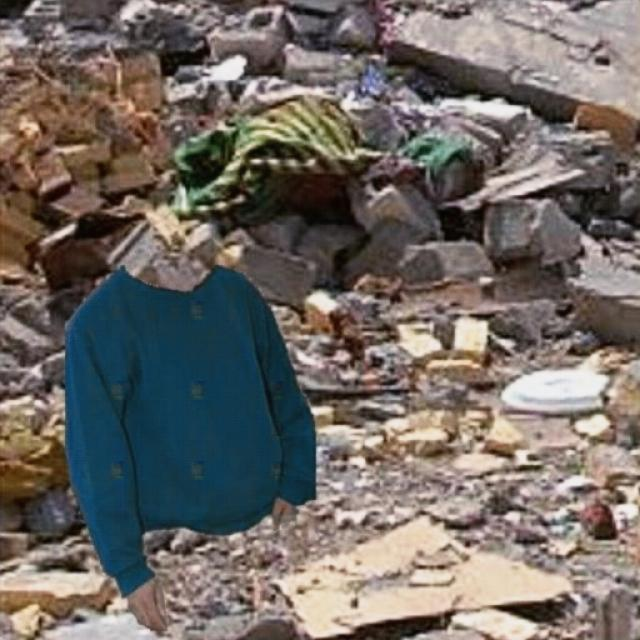Person in Rubble: (65, 264, 315, 630)
